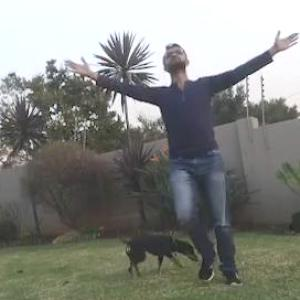takeoff: (83, 44, 291, 279)
